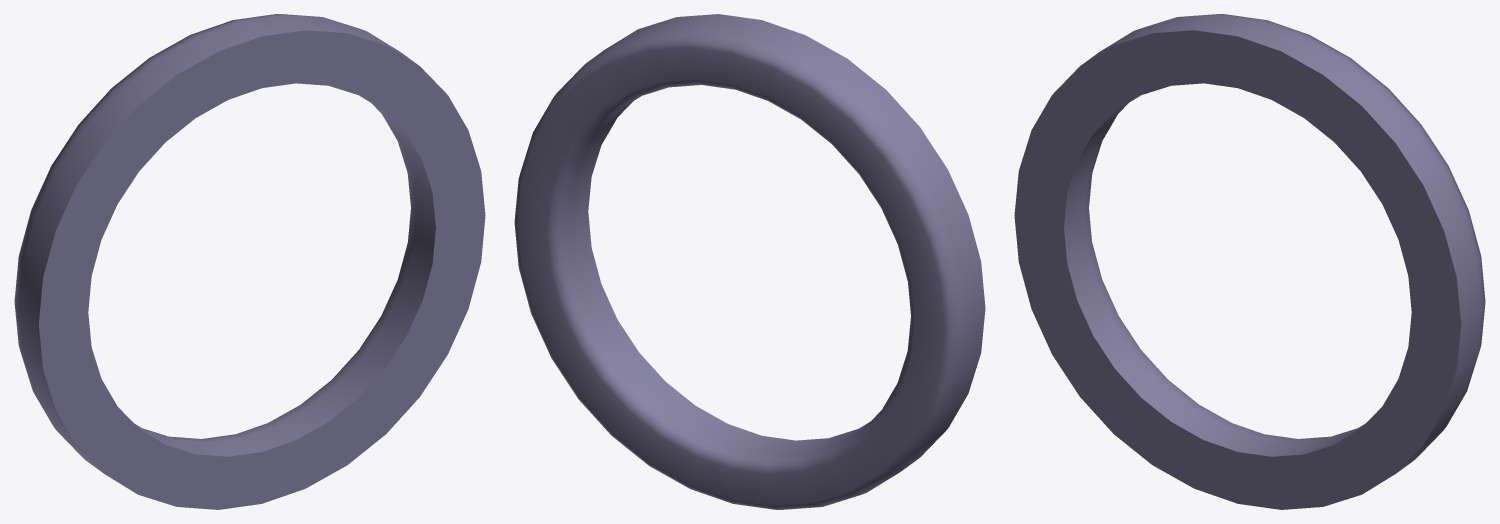
The picture shows the model from 3 angles, left to right: view 1: azimuth 30°, elevation 25°; view 2: azimuth 150°, elevation 25°; view 3: azimuth 330°, elevation 25°; orthographic projection.
Parts seen in each view (by area): view 1: BO; view 2: BO; view 3: BO.
Boxes of the visible parts, <box> form: BO: <box>14,14,485,509</box>; BO: <box>514,14,985,509</box>; BO: <box>1014,14,1485,509</box>.
Bounding box in the file's own units: 200 × 200 × 24.11.
